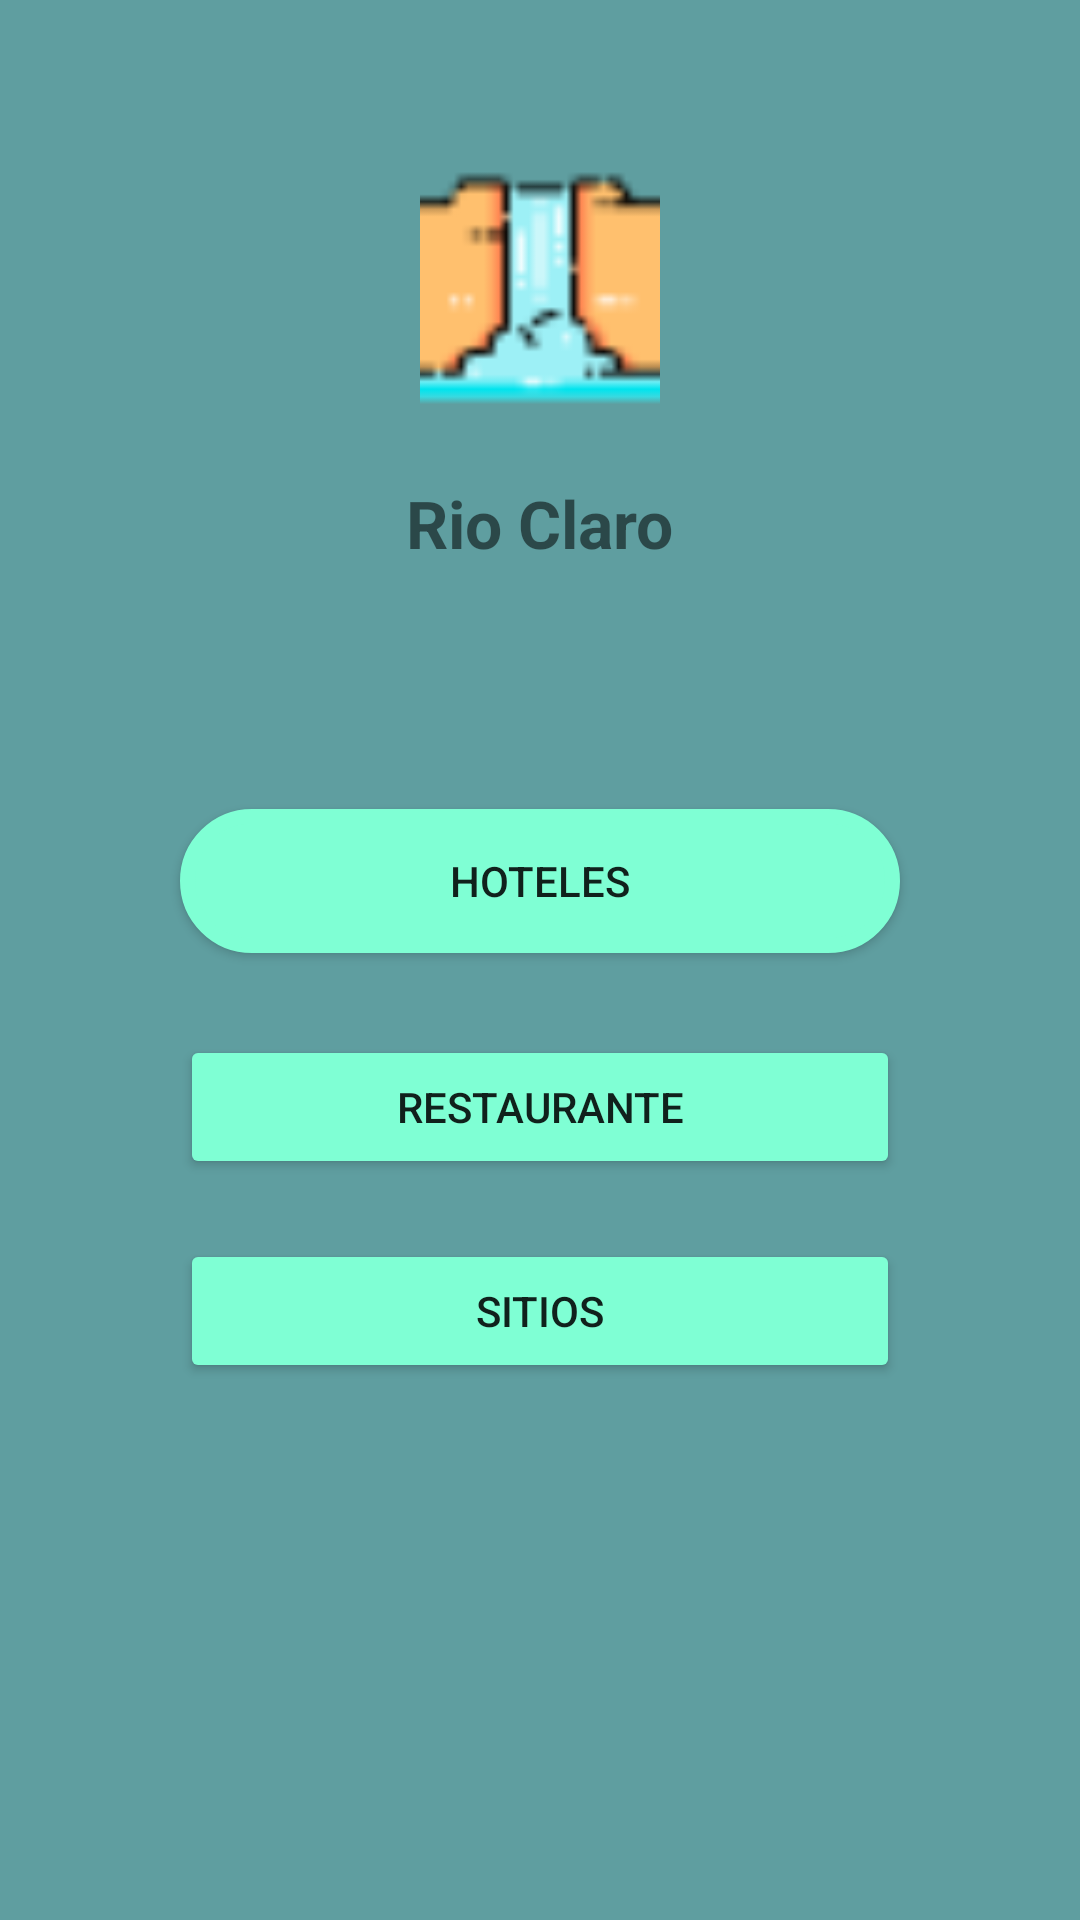

Point at icon controls on the screen. Image size 1080x1920, points as (x,y).
botoncascada: (540,287)
